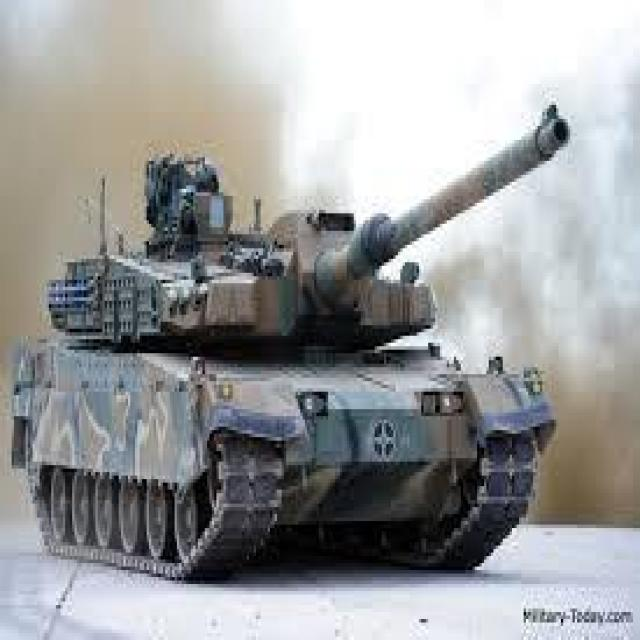Tanks: (11, 106, 572, 578)
